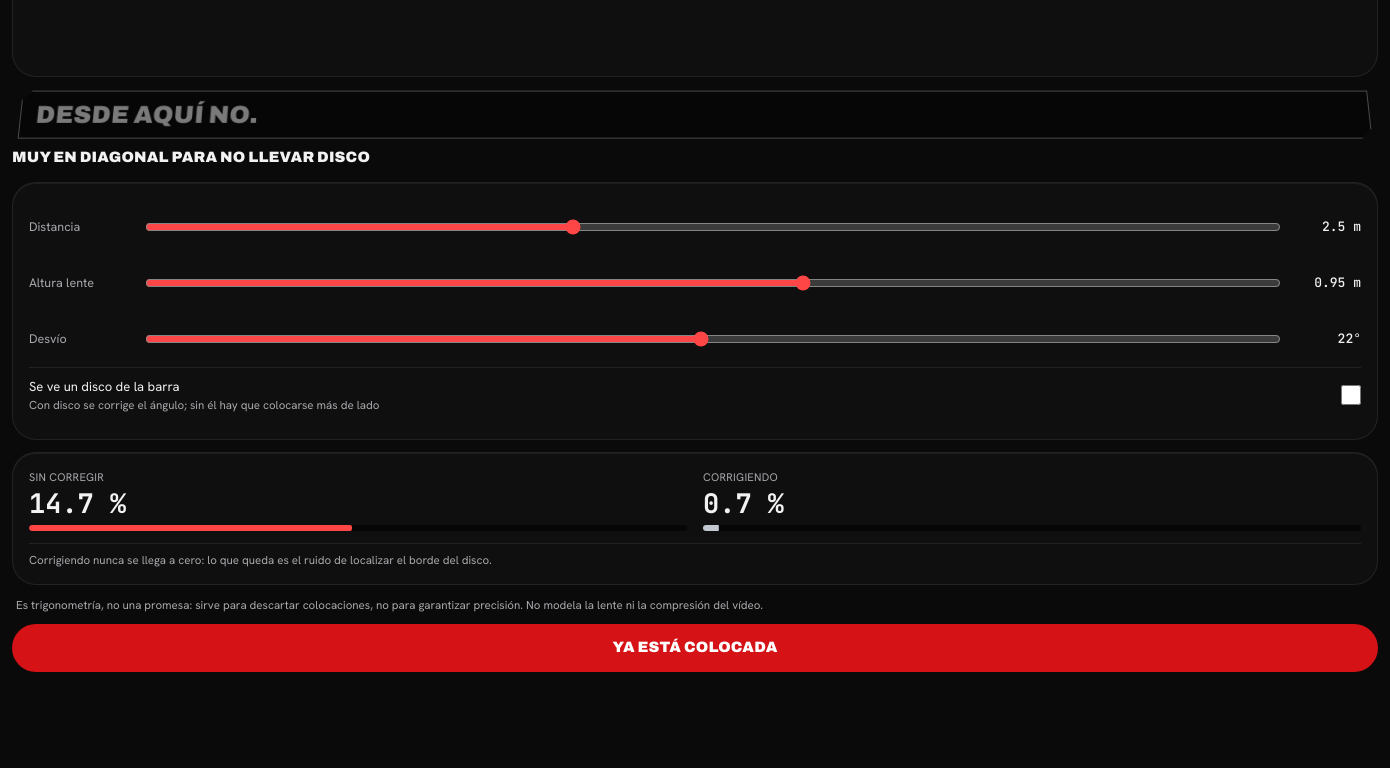
el veredicto es el del núcleo, sin criterio propio de la pantalla › el interruptor de disco cambia el veredicto sin mover la cámara
(page scrolled)
Expected: the text "Desde aquí no." is shown, [35,102,259,128]
Click the checkbox labelled "Se ve un disco de la barra" at (1351,395), box [1341,385,1361,405]
(page scrolled)
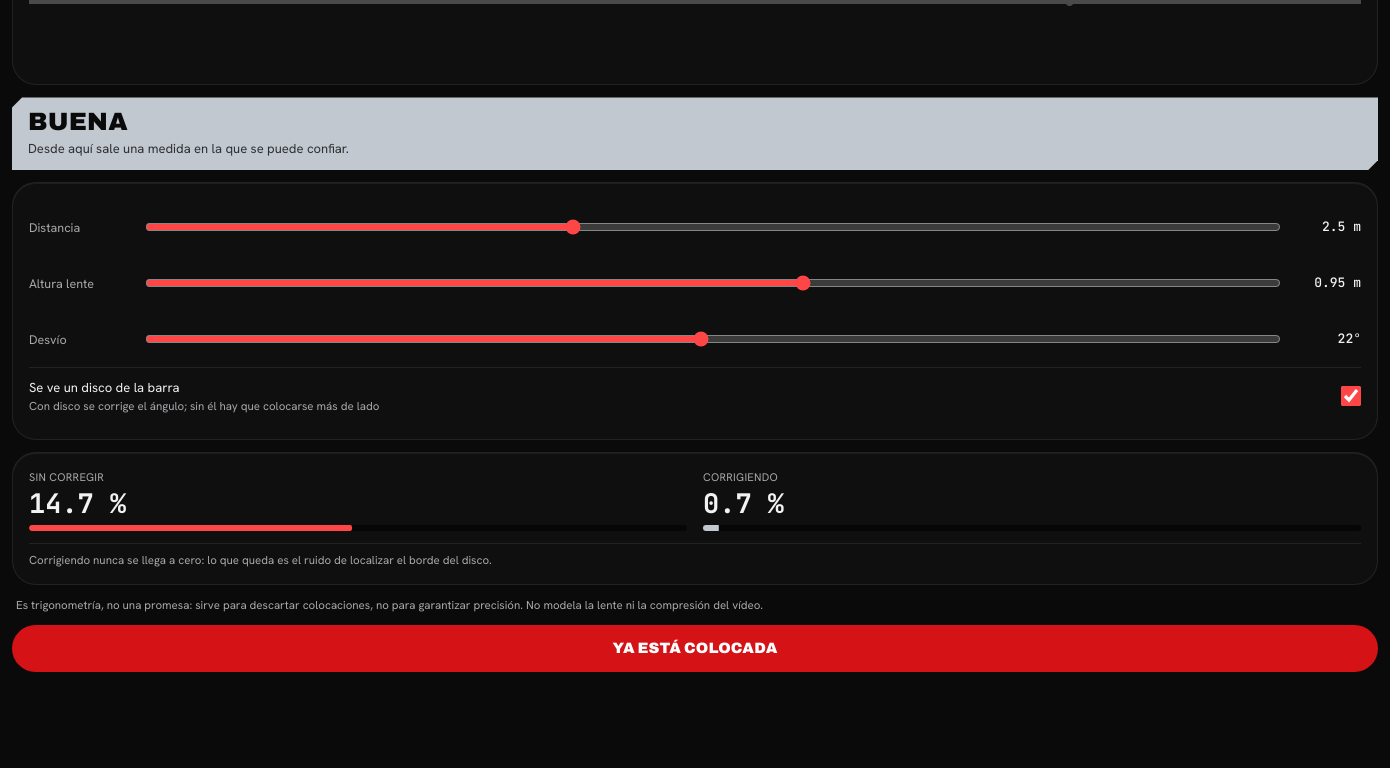
Expected: the text "Desde aquí sale una medida en la que se puede confiar." is shown, [28,140,349,157]
